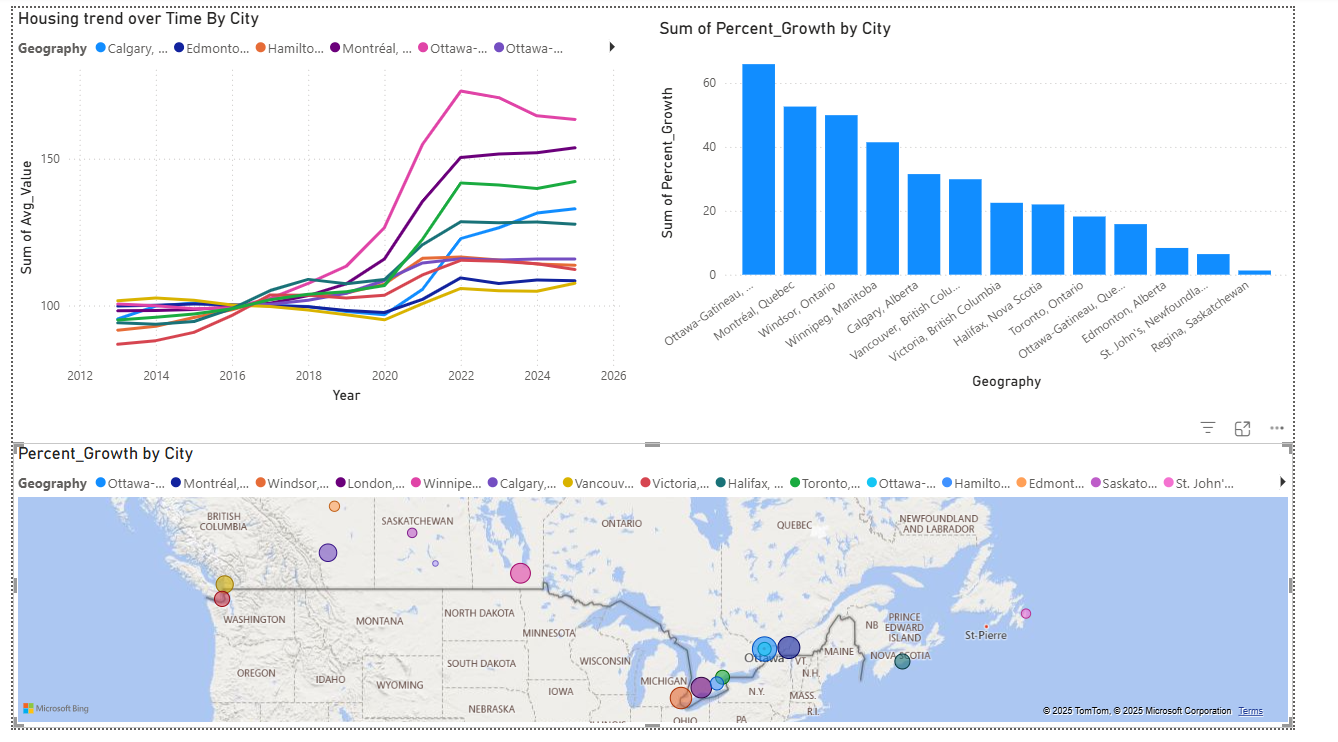

Layout of this report page (visuals, bound fields, positions):
{"tool":"powerbi","page":{"name":"Dashboard (Main Overview)","canvas":[1280,720],"ordinal":0},"visuals":[{"type":"lineChart","title":"Housing trend over Time By City","fields":{"Category":["housing_for_powerbi.Year"],"Y":["Sum(housing_for_powerbi.Avg_Value)"],"Series":["housing_for_powerbi.Geography"]},"box":[0,0,639.5,425.4],"z":0},{"type":"clusteredColumnChart","title":"Sum of Percent_Growth by City","fields":{"Y":["Sum(growth_2016_2024_expanded.Percent_Growth)"],"Category":["growth_2016_2024_expanded.Geography"]},"box":[641.1,10,638.9,376.7],"z":1},{"type":"map","fields":{"Category":["growth_2016_2024_expanded.Geography"],"Series":["growth_2016_2024_expanded.Geography"],"Size":["Sum(growth_2016_2024_expanded.Percent_Growth)"]},"box":[0,435.6,1280,284.4],"z":2}]}

Visuals, with their boxes in screenshot pixels (x1, y1, x2, y2), scaled from the page's 1280x720 canvas onto the 1338x742 screenshot:
"Housing trend over Time By City" lineChart: [x1=0, y1=0, x2=668, y2=438]
"Sum of Percent_Growth by City" clusteredColumnChart: [x1=670, y1=10, x2=1337, y2=399]
map - growth_2016_2024_expanded.Geography x growth_2016_2024_expanded.Geography: [x1=0, y1=449, x2=1337, y2=741]
